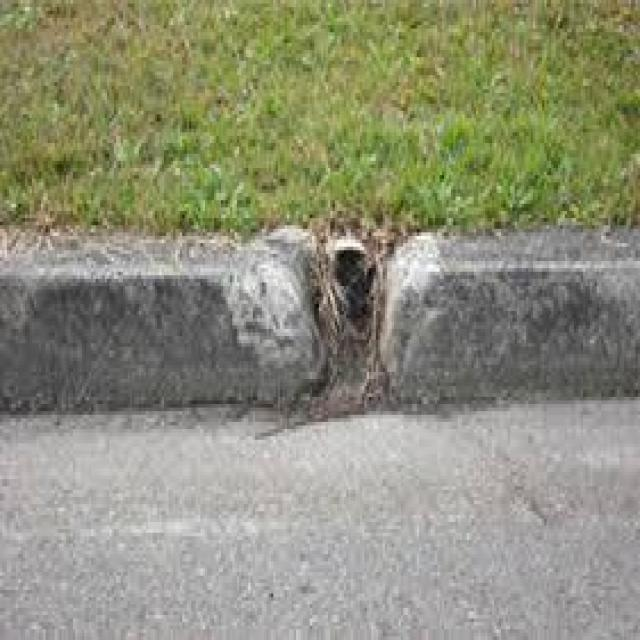curb: (10, 224, 640, 420)
